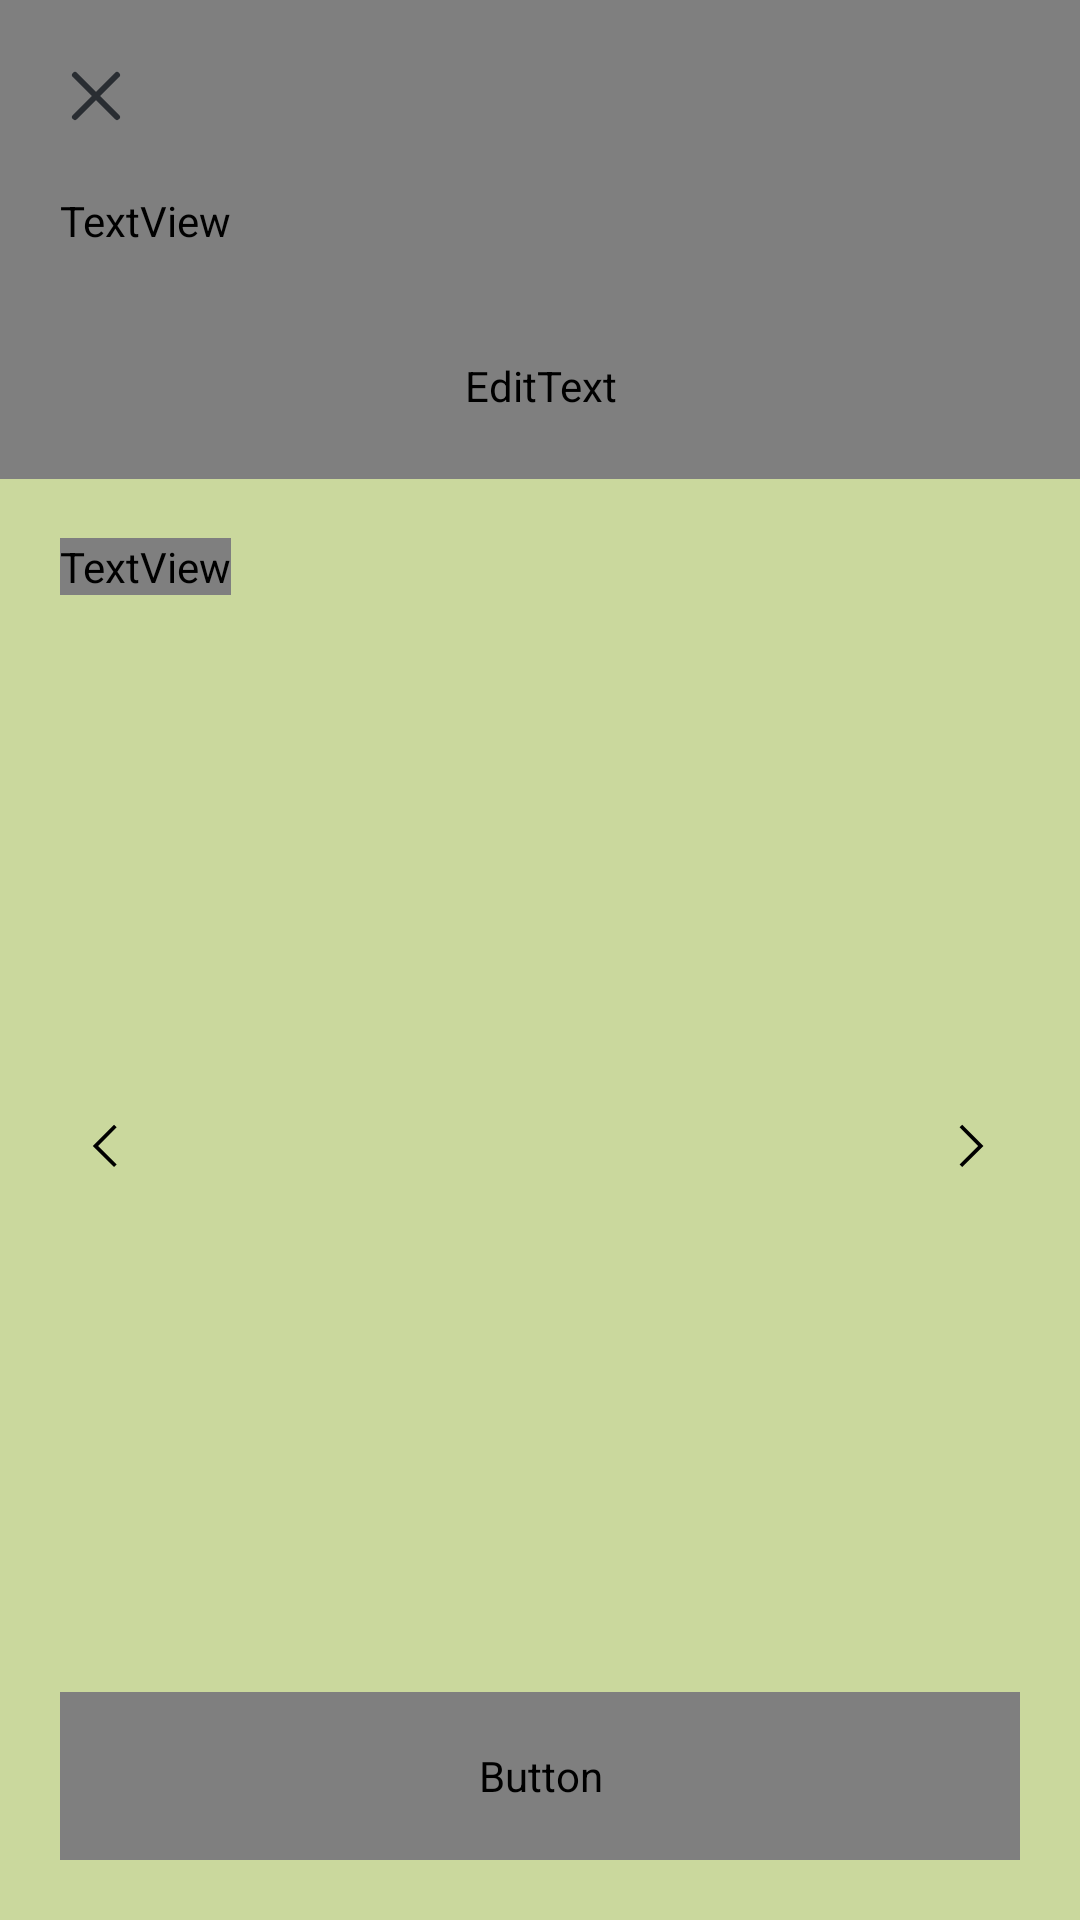

Locate icon controls on the screen. Image size 1080x1920, boxes as BBox(x1, y1, x2, y2).
close: BBox(72, 72, 120, 120)
left: BBox(93, 1125, 117, 1167)
right: BBox(959, 1125, 983, 1167)
